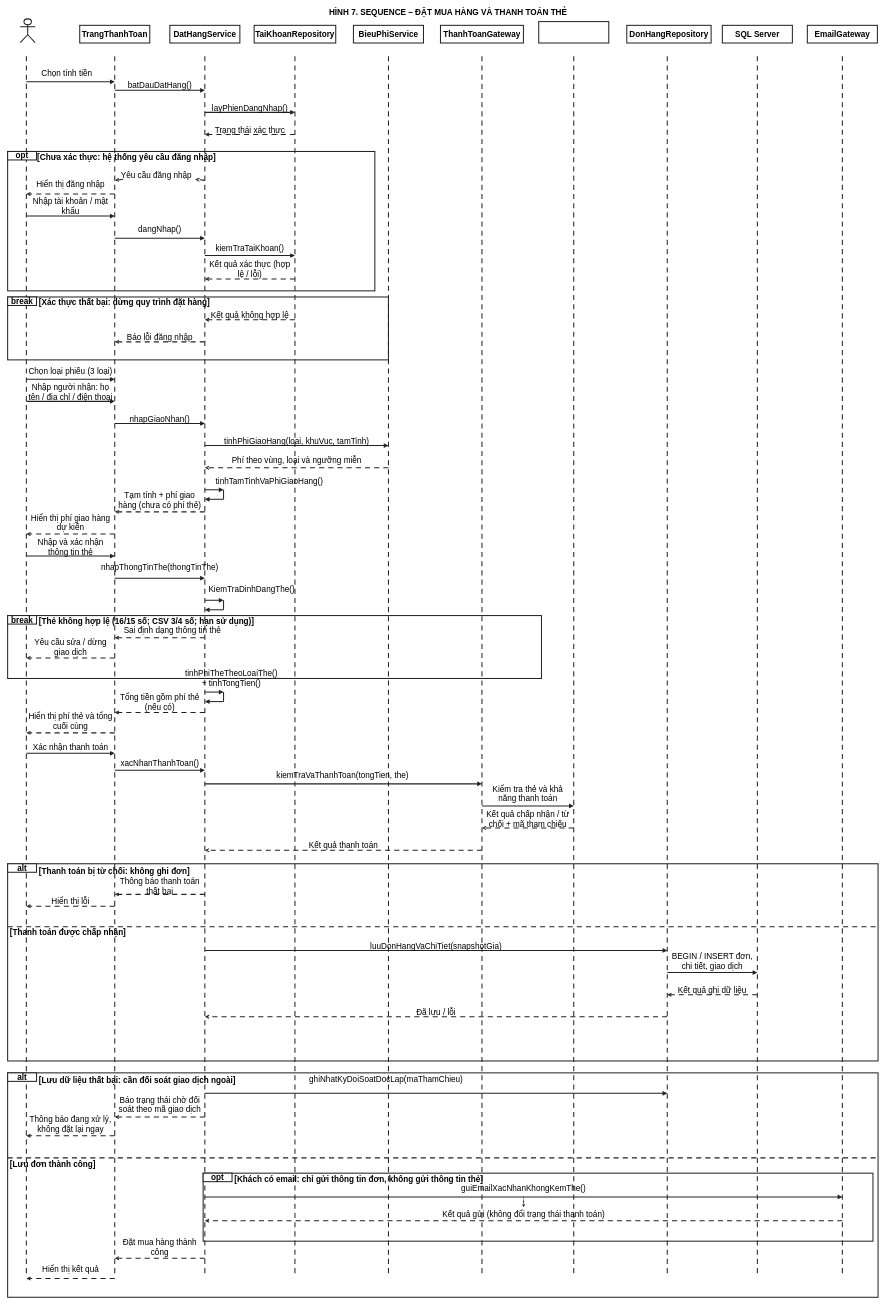
Some shapes in this 886 by 1304 pixel diagram are drawn without their labels. Each missing label, with the centre of its shape:
Hệ thống TT trực tuyến: point (573, 32)
Khách hàng: point (28, 30)
